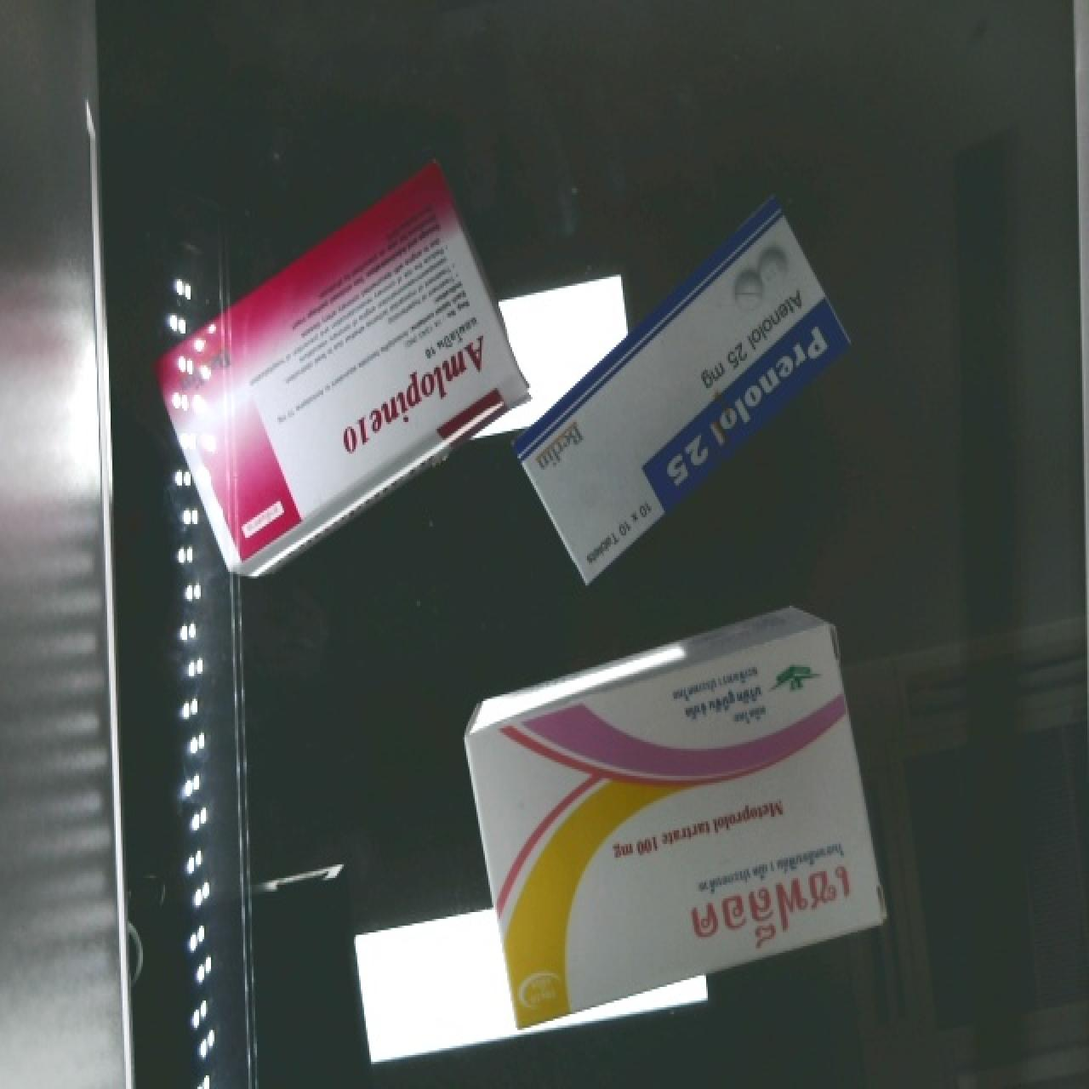medicine_label_obb: (631, 300, 857, 508), (667, 824, 897, 977), (318, 312, 521, 478)
